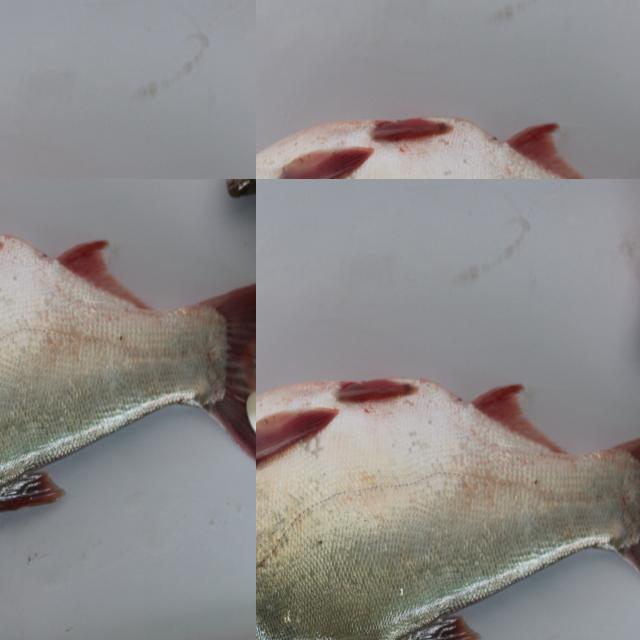fish: (256, 348, 640, 640)
